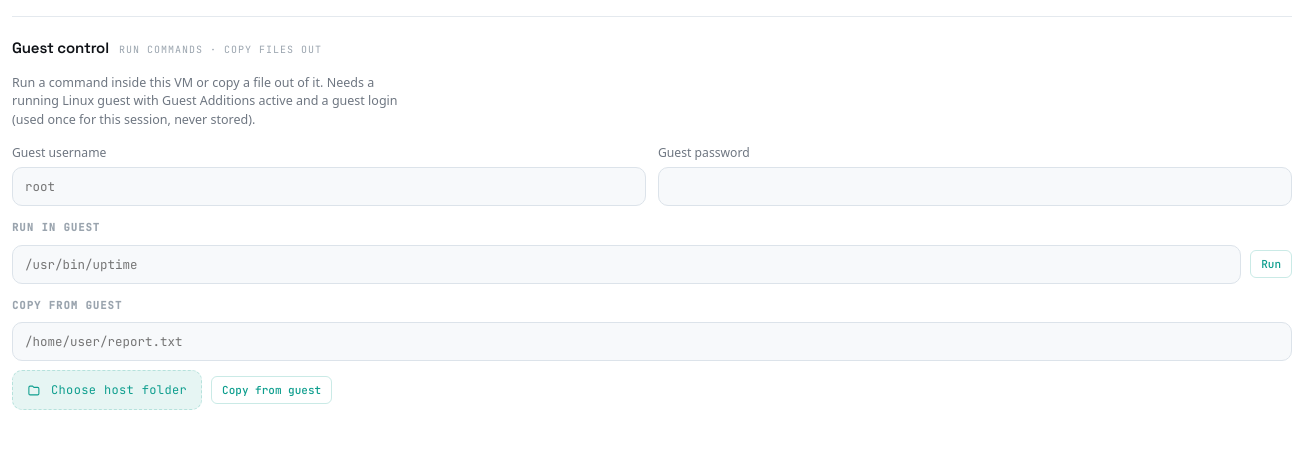
Test: GuestControlPanel › prompts for credentials instead of running when they are missing
Note: No credentials entered.
Type "/bin/ls" into the field named "Command to run" at [627, 264], box x1=12 y1=244 x2=1241 y2=284
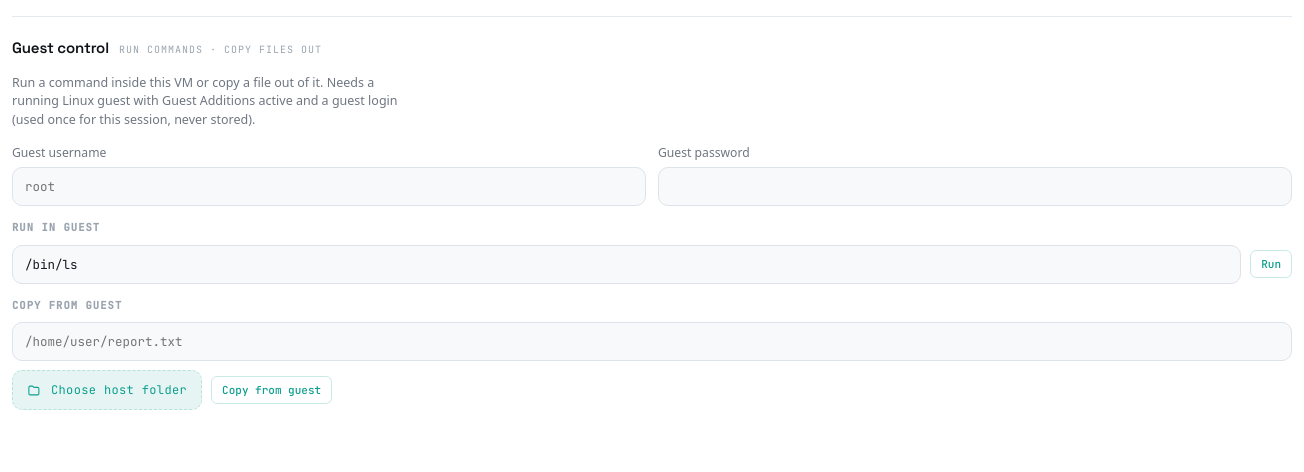
Click the button "Run" at [1271, 264], box x1=1250 y1=250 x2=1292 y2=278
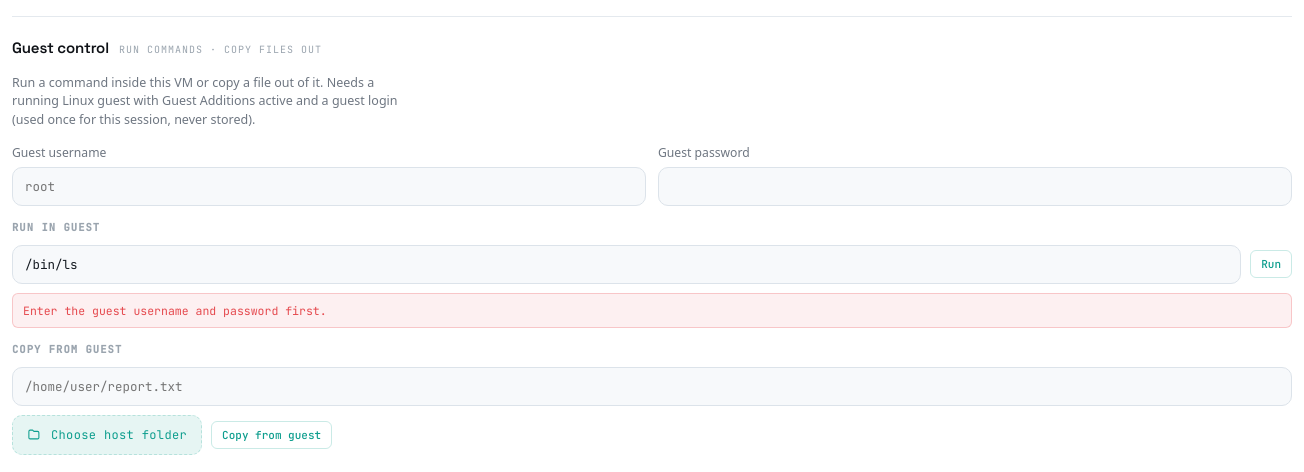
expect the text "Enter the guest username and password first." is shown: met, box x1=12 y1=292 x2=1292 y2=328
